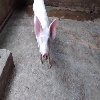heo: (32, 15, 60, 62)
